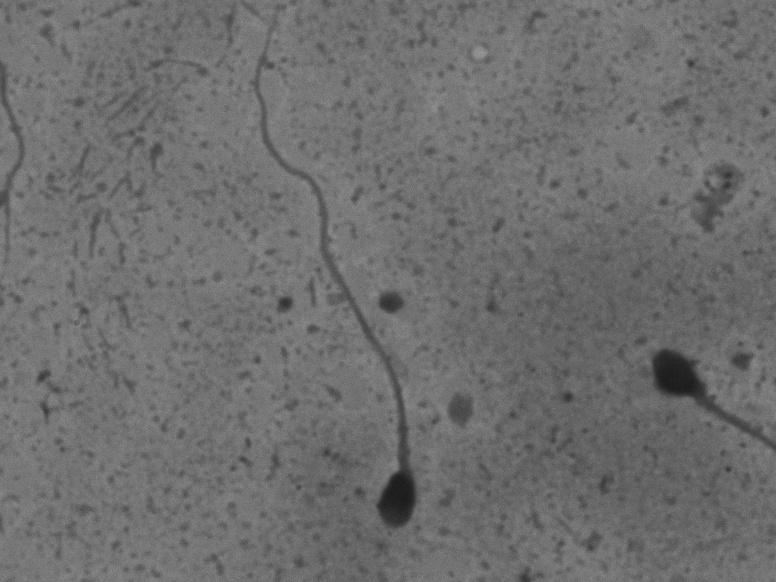Abnormal: (626, 304, 755, 496)
Normal: (243, 36, 448, 541)
